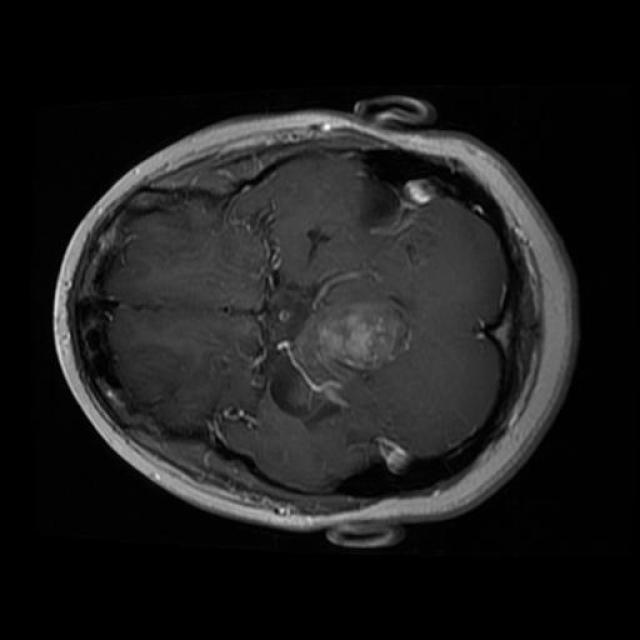Glioma: (306, 300, 408, 378), (273, 342, 340, 416)
